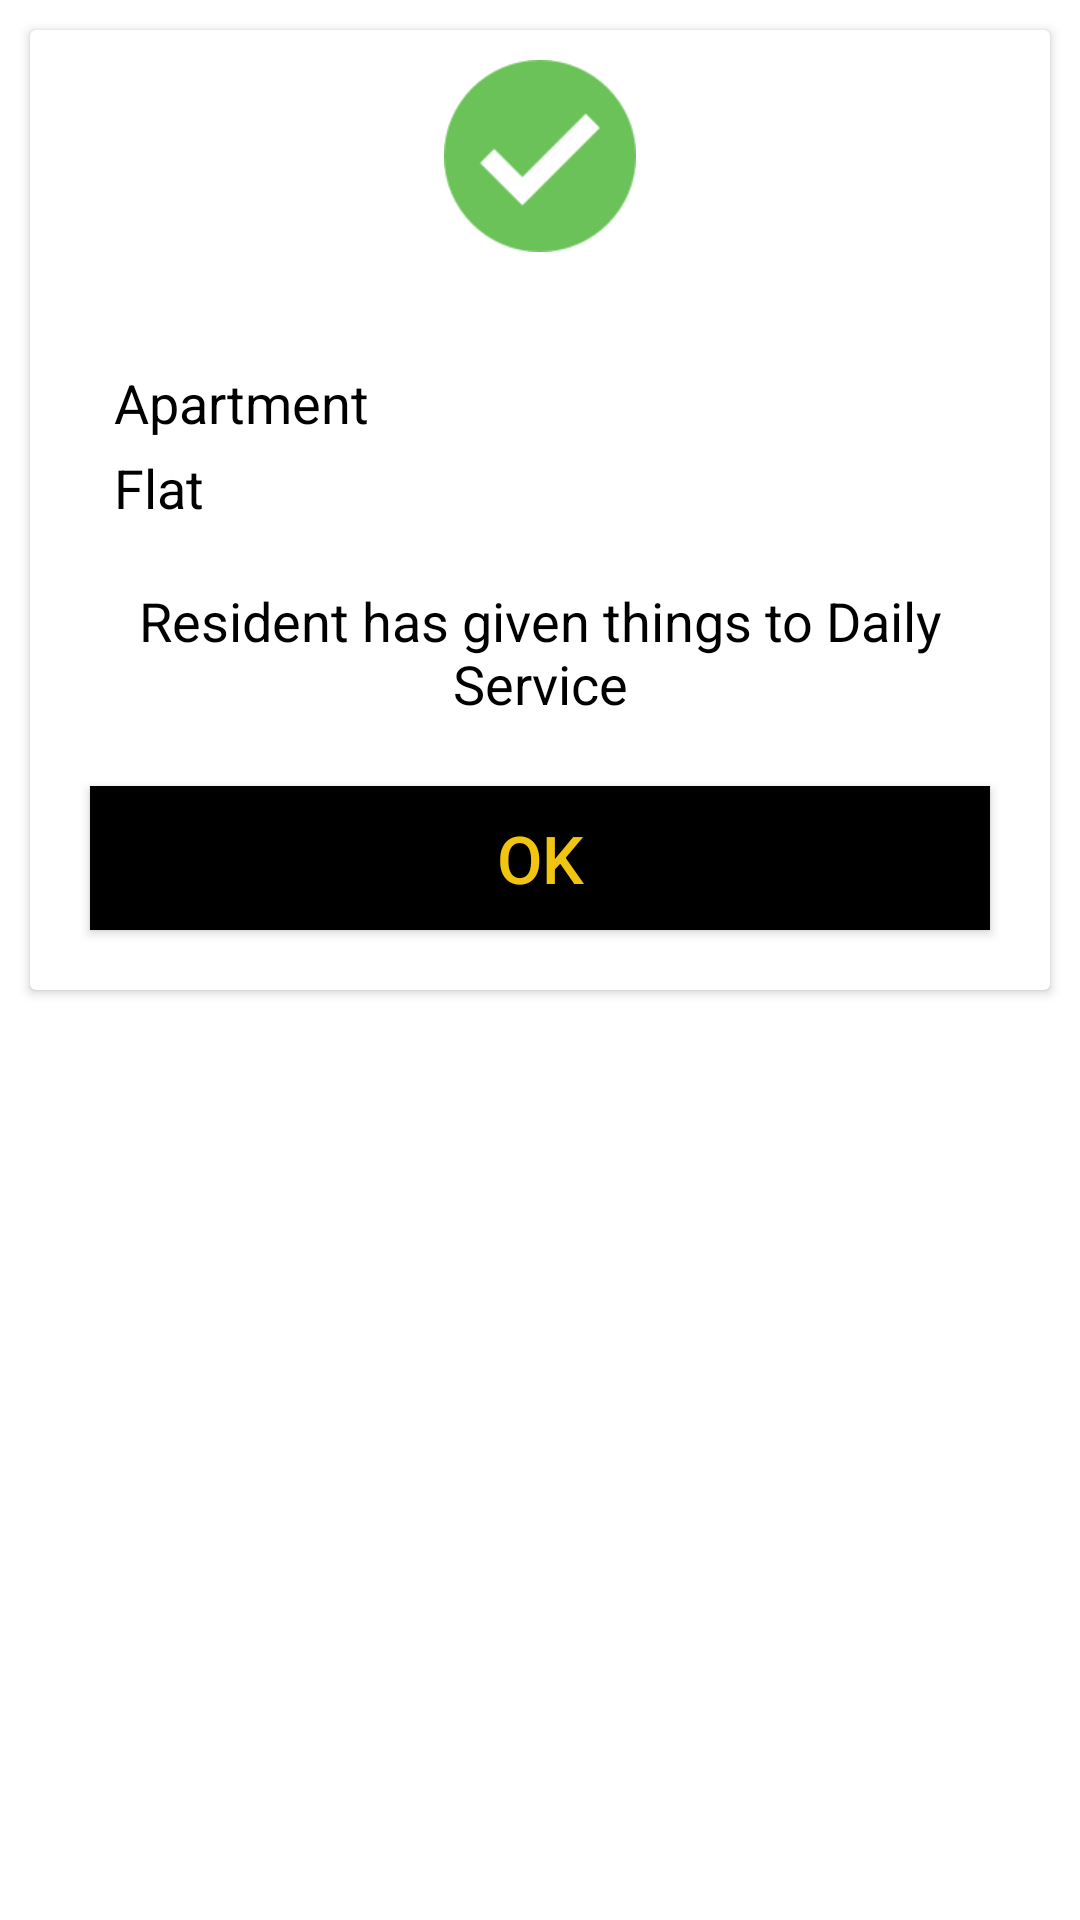

Icons on this 1080×1920 Android screen, each with the point to tap as point (x, y):
Image to indicate for successful visitor validation: point (540, 156)
